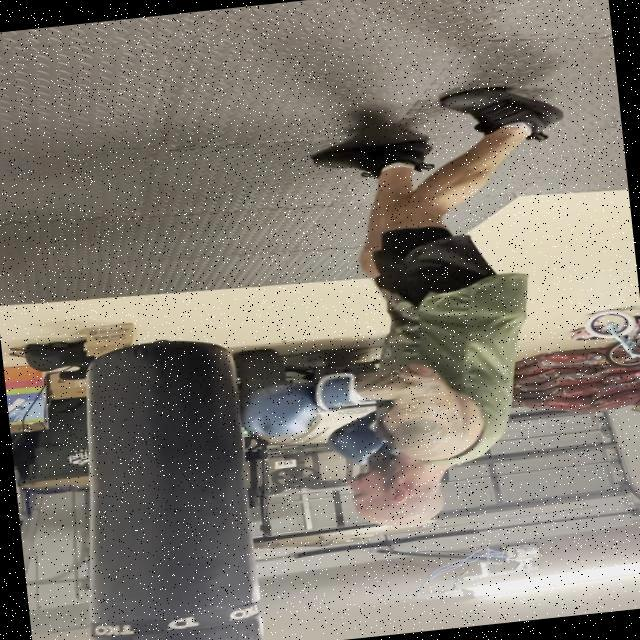punch: (210, 344, 524, 548)
